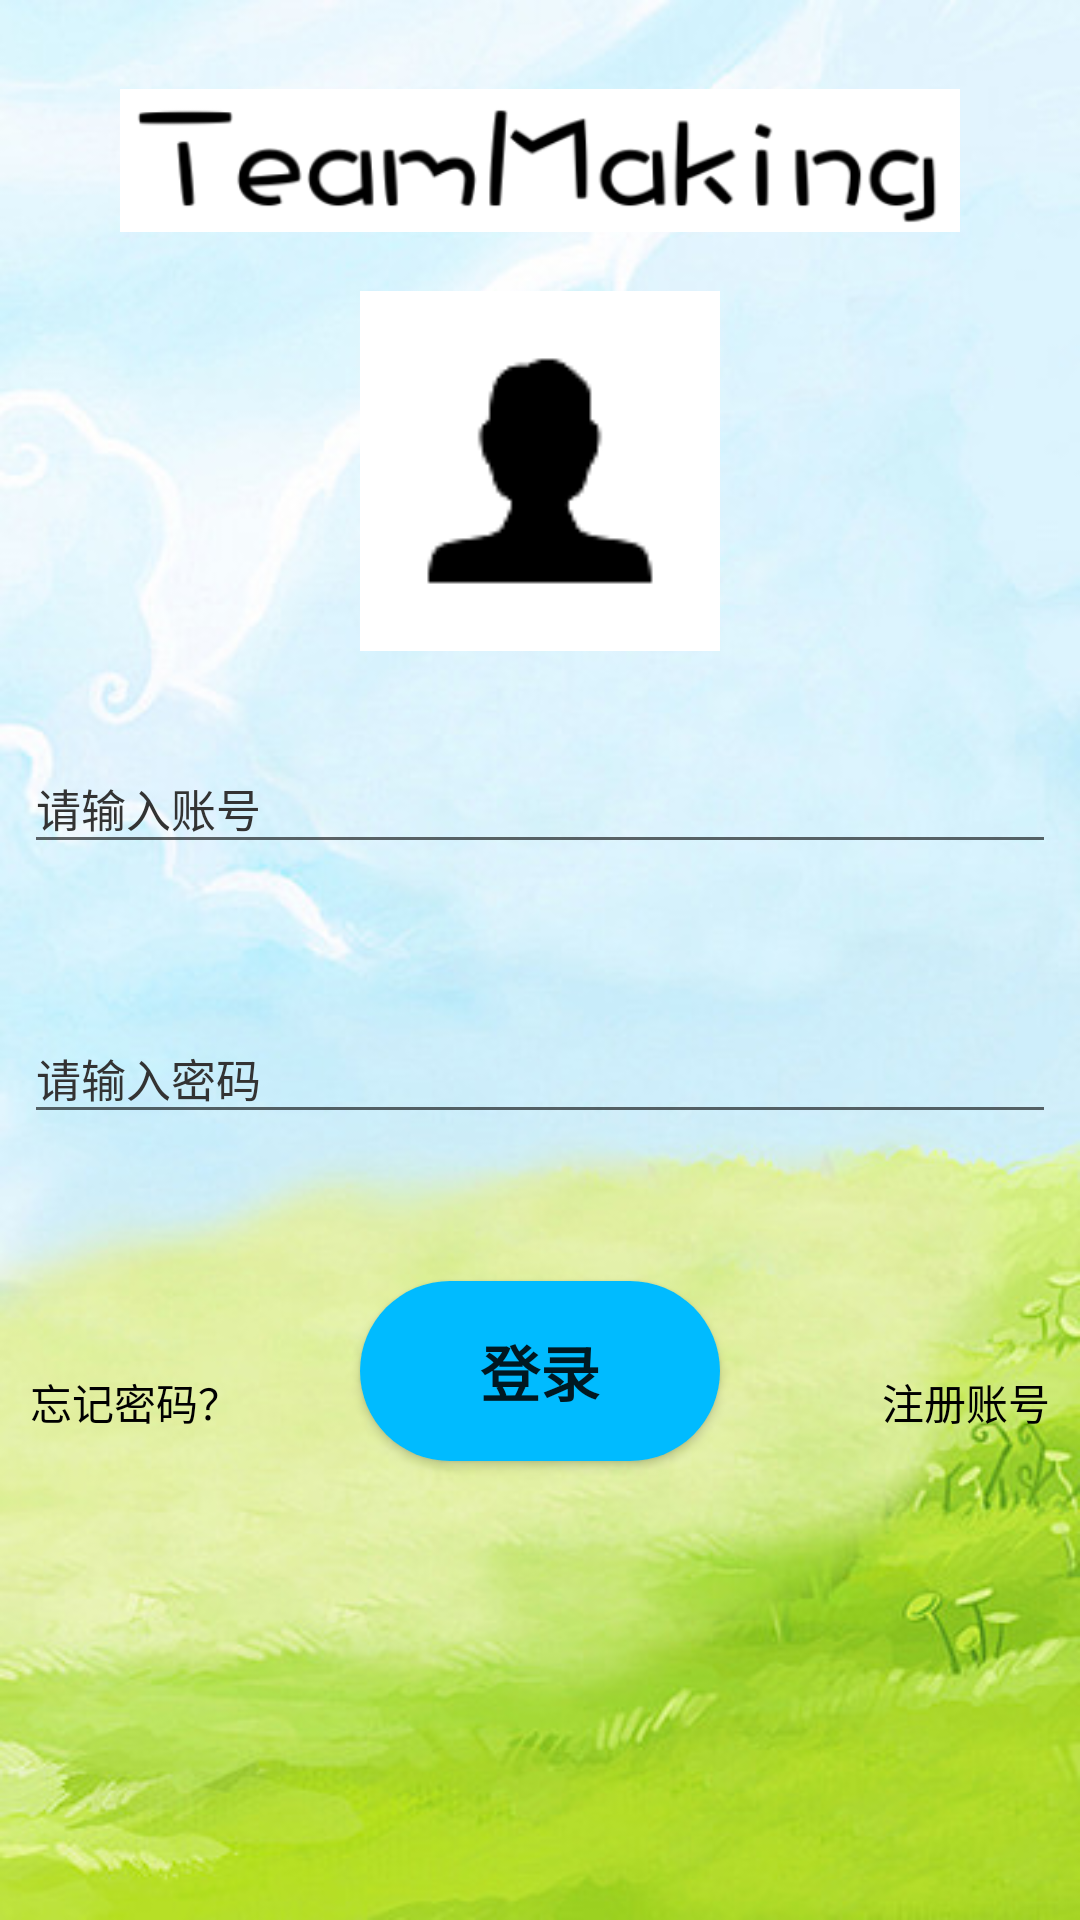

Icons on this 1080 x 1920 Android screen, each with the point to tap as [x,y]:
account: [540,471]
